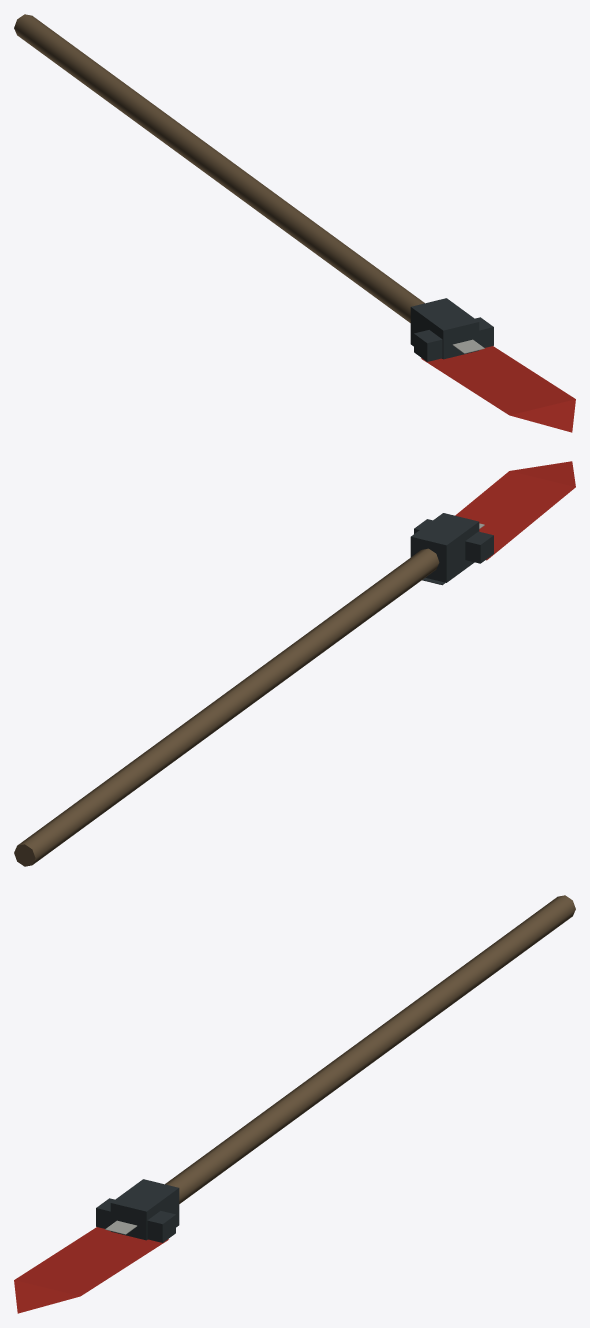
3 renders of one model, top to bottom at view 1: azimuth 30°, elevation 25°; view 2: azimuth 150°, elevation 25°; view 3: azimuth 330°, elevation 25°, orthographic.
Visible parts, largest first — view 1: weapon-spear-painted; view 2: weapon-spear-painted; view 3: weapon-spear-painted.
Part boxes in pixels (x1=…): weapon-spear-painted: x1=14, y1=14, x2=575, y2=432; weapon-spear-painted: x1=14, y1=461, x2=575, y2=866; weapon-spear-painted: x1=14, y1=895, x2=575, y2=1313.
Size of the model in its own units: 0.7767 by 0.4929 by 11.05.
